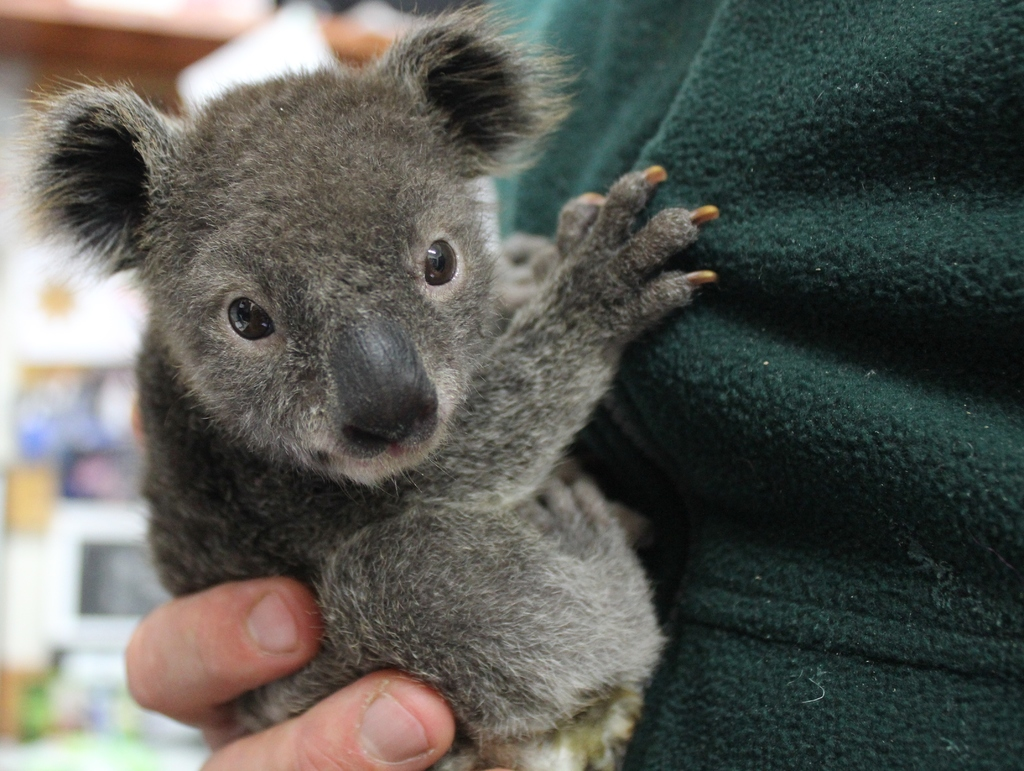person: (173, 0, 420, 116)
